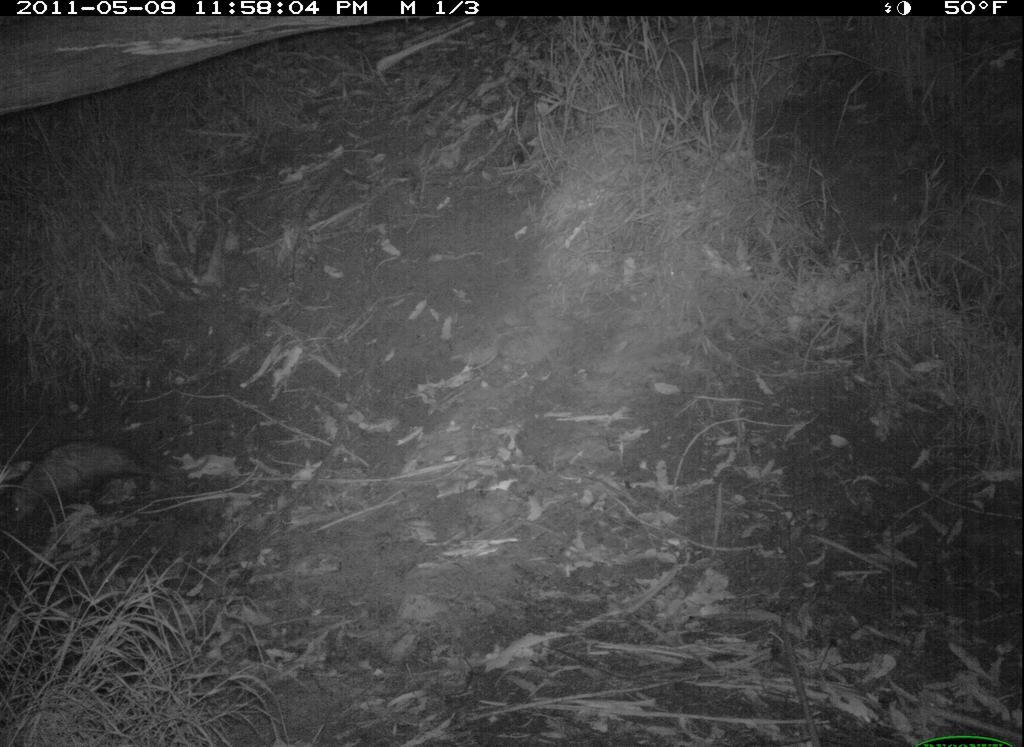opossum: (7, 436, 164, 529)
